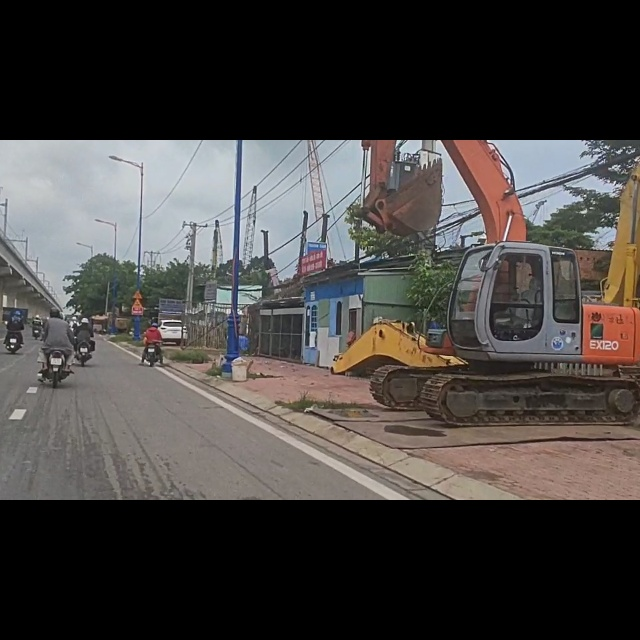bien_nguy_hiem: (132, 265, 144, 282), (131, 282, 144, 297)
